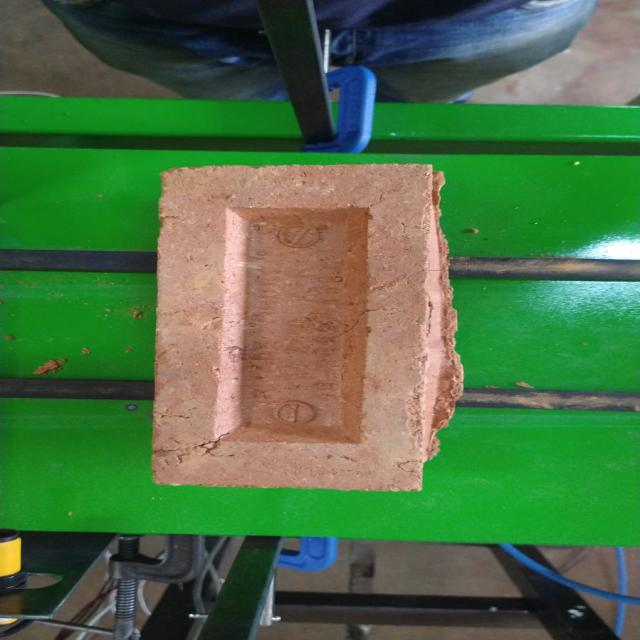bricks_ruin: (153, 162, 463, 492)
